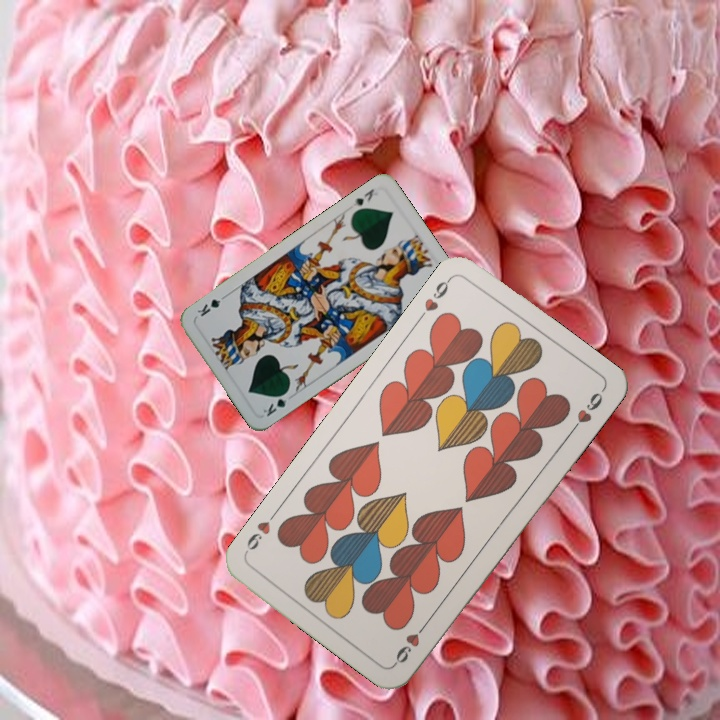GK: (259, 387, 291, 419), (345, 185, 380, 212)
H9: (390, 617, 431, 667), (420, 273, 455, 314)
